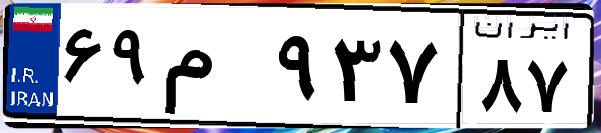3: (330, 28, 385, 110)
6: (57, 26, 110, 100)
7: (385, 28, 445, 110), (525, 38, 570, 115)
8: (475, 38, 525, 113)
9: (270, 28, 330, 110), (110, 28, 158, 98)
م: (158, 20, 270, 120)
